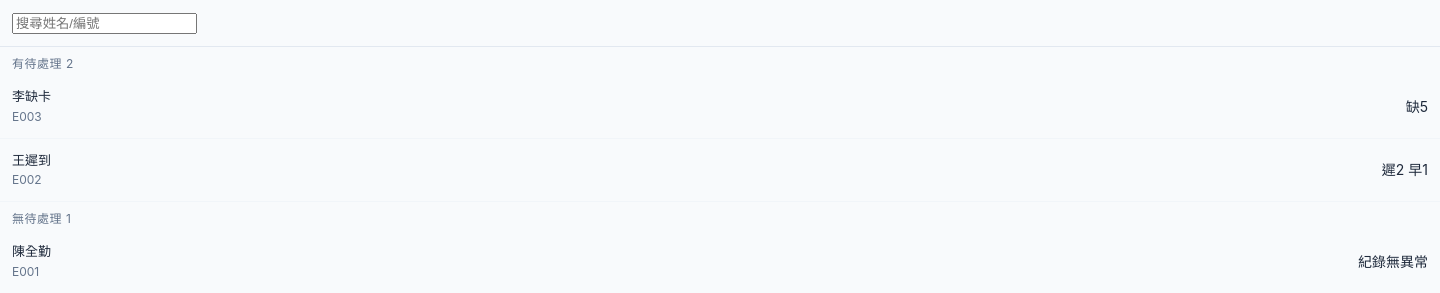
Test: RosterColumn › filters roster by name search input
Step 1. Type "王" into the field with placeholder "搜尋姓名/編號" → (104, 24), box x1=12 y1=13 x2=197 y2=34
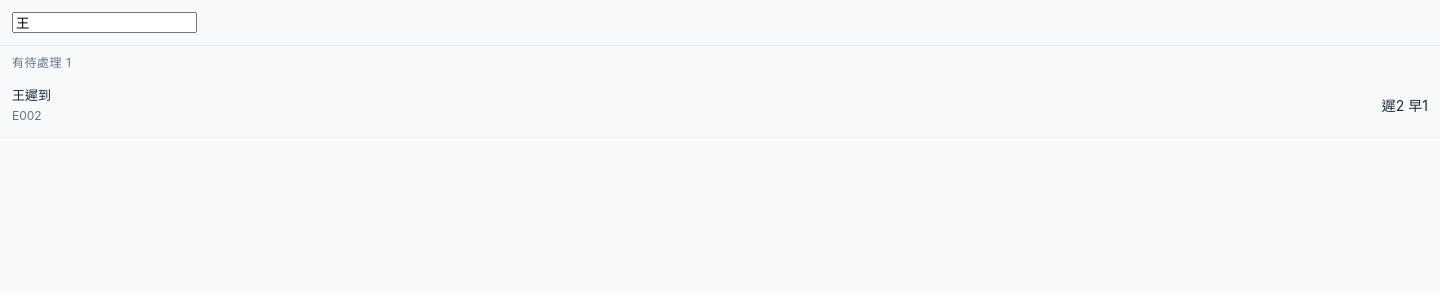
Expected: the option with class "roster-item" shows "王遲到", x1=0 y1=74 x2=1439 y2=138
Result: the number of options with class "roster-item" is 1 at x1=0 y1=74 x2=1439 y2=138
